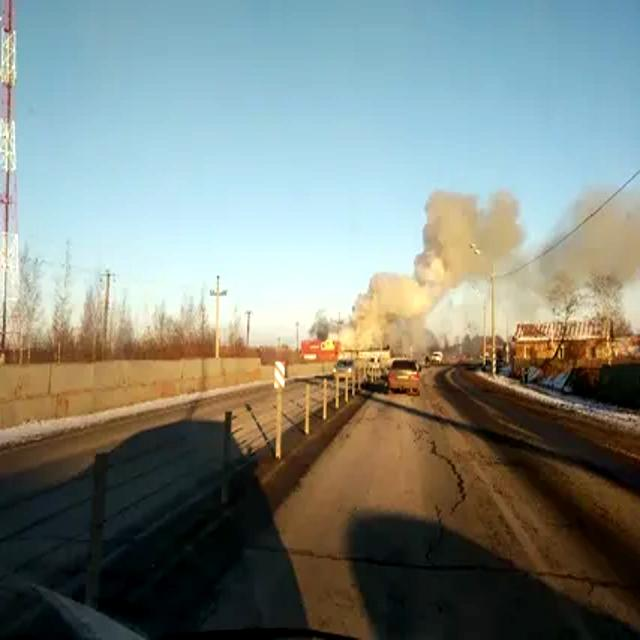no_helmet: (345, 189, 528, 354), (529, 190, 638, 324)
